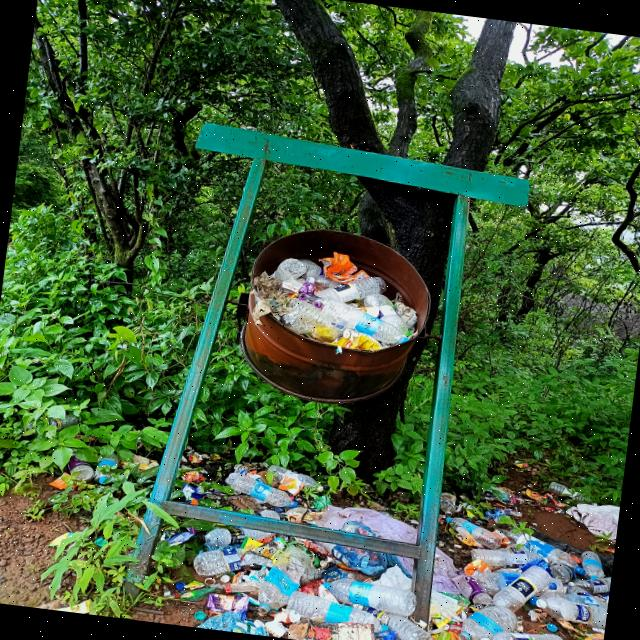garbage: (115, 441, 620, 640), (238, 239, 433, 384)
